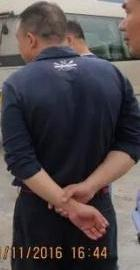boots: (0, 193, 12, 204), (0, 189, 8, 195)
